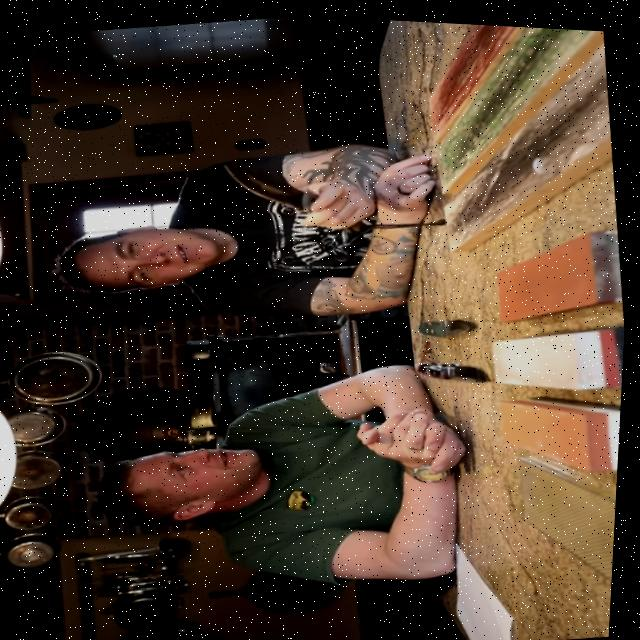knife: (221, 150, 323, 219), (416, 349, 493, 385), (418, 310, 476, 337)
